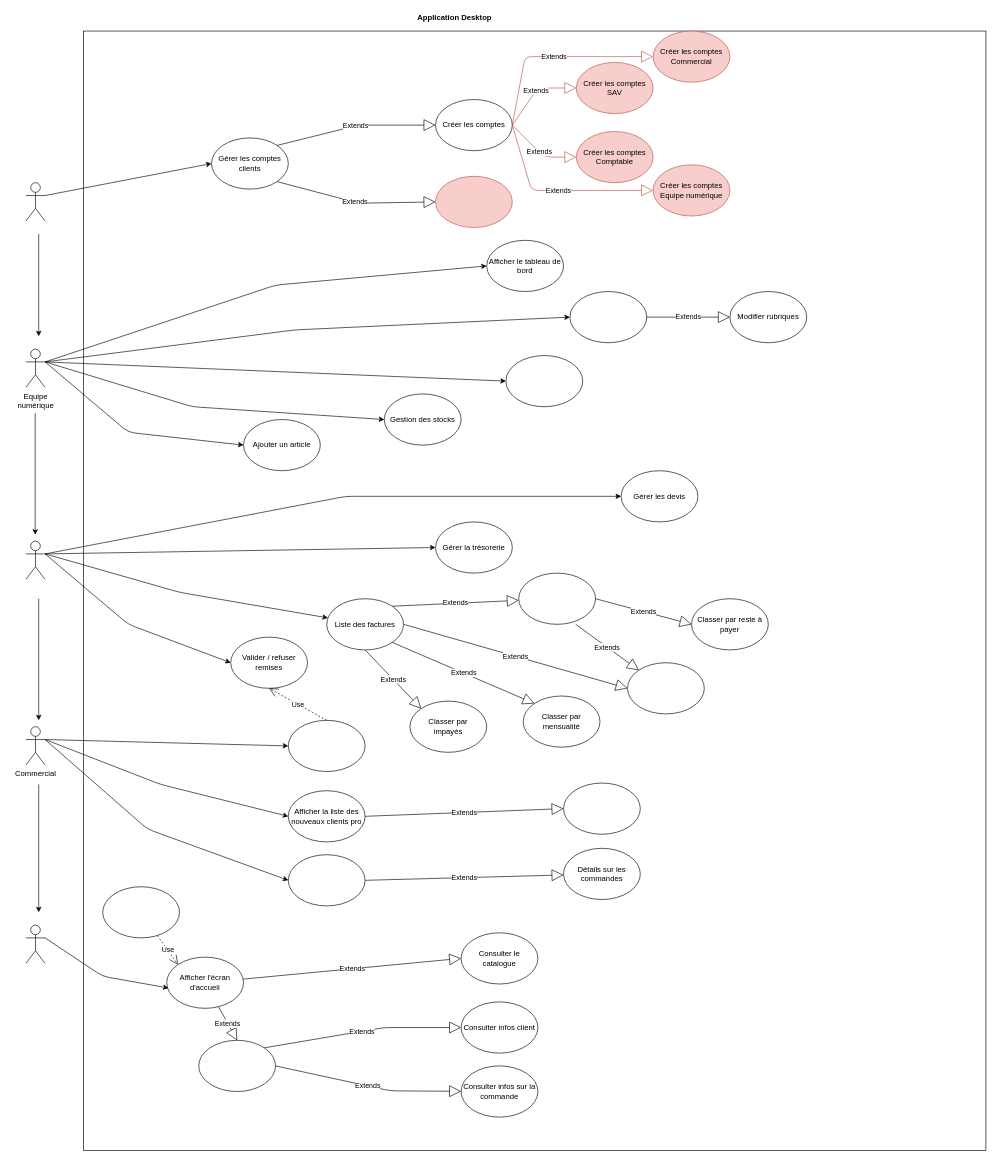
The diagram is 997 pixels wide and 1162 high, and some of its shapes have lost their labels. The shapes that lost their labels are listed below. From the top down, each one's centre as x and y in pixels, then its label:
At (x=35, y=201): "Administrateur".
At (x=473, y=202): "Desactiver un compte".
At (x=608, y=317): "Modifier un article".
At (x=544, y=381): "Supprimer un article".
At (x=35, y=560): "Comptabilité".
At (x=557, y=598): "Classer par type de client".
At (x=665, y=688): "Classer par date".
At (x=326, y=746): "Demande de remise".
At (x=601, y=808): "Attribuer des clients".
At (x=326, y=880): "Afficher la liste de ses clients".
At (x=141, y=912): "log in".
At (x=35, y=944): "SAV".
At (x=237, y=1066): "Répondre aux messages".
